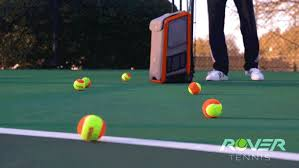tennis_ball: (75, 114, 107, 144), (201, 97, 222, 120), (187, 80, 202, 96), (72, 78, 85, 91), (81, 76, 92, 87), (120, 71, 130, 83)
